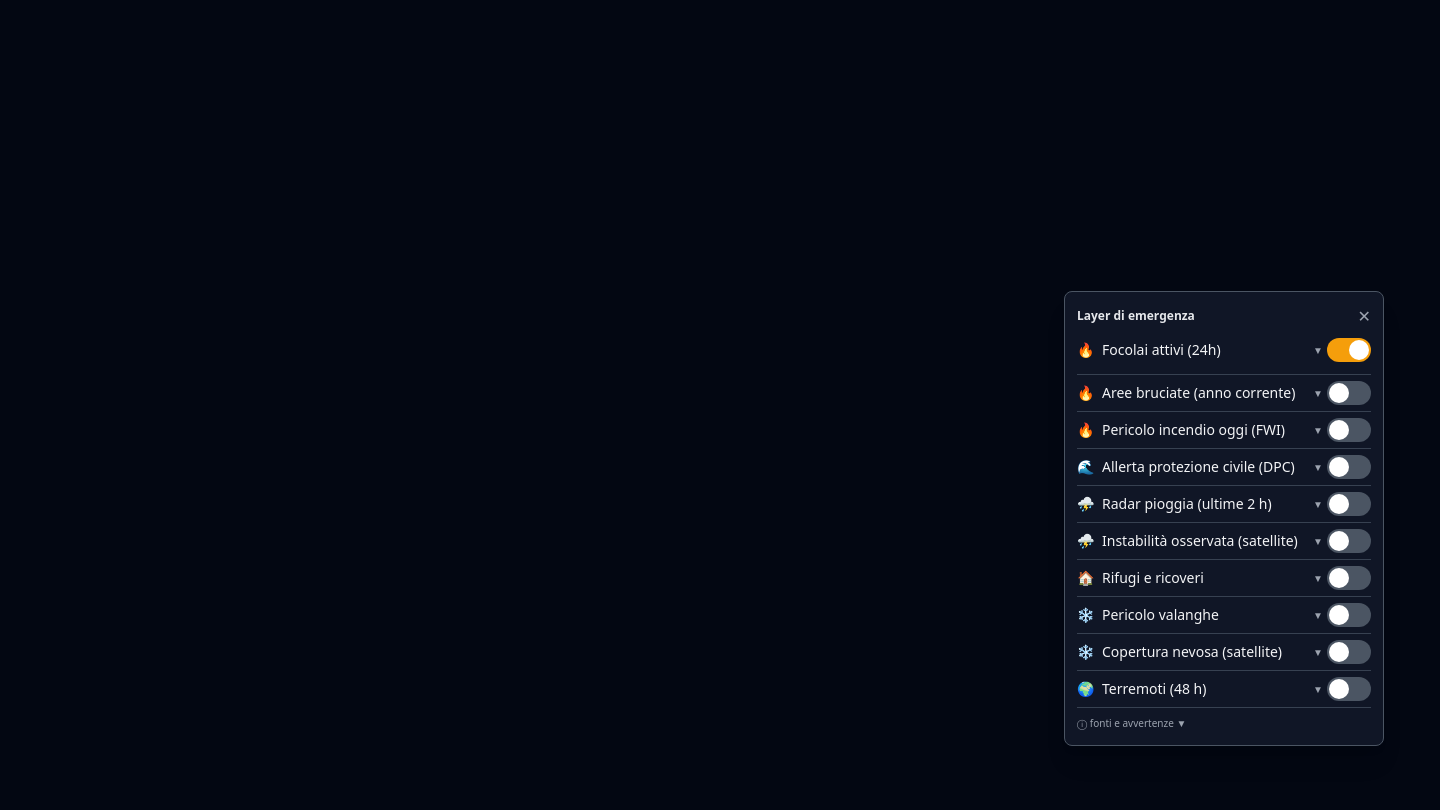
Test: pannello layer compatto › un secondo tocco richiude la riga
Click the button "🔥 Focolai attivi (24h) ▼".
click(1200, 350)  # box [1077, 332, 1323, 368]
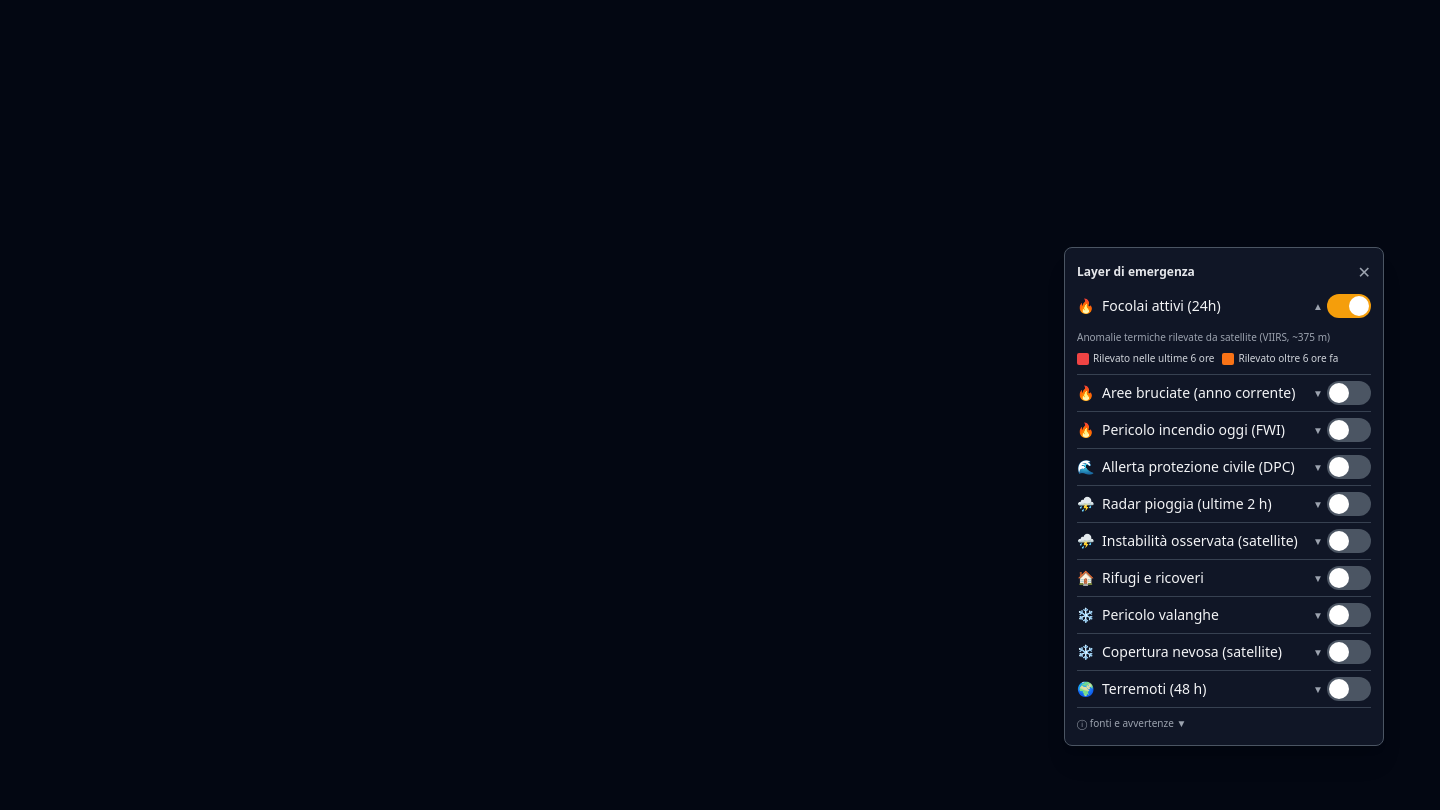
Result: the text "Rilevato nelle ultime 6 ore" is shown at [1077, 351, 1214, 366]
Click the button "🔥 Focolai attivi (24h) ▲".
click(1200, 306)  # box [1077, 288, 1323, 324]
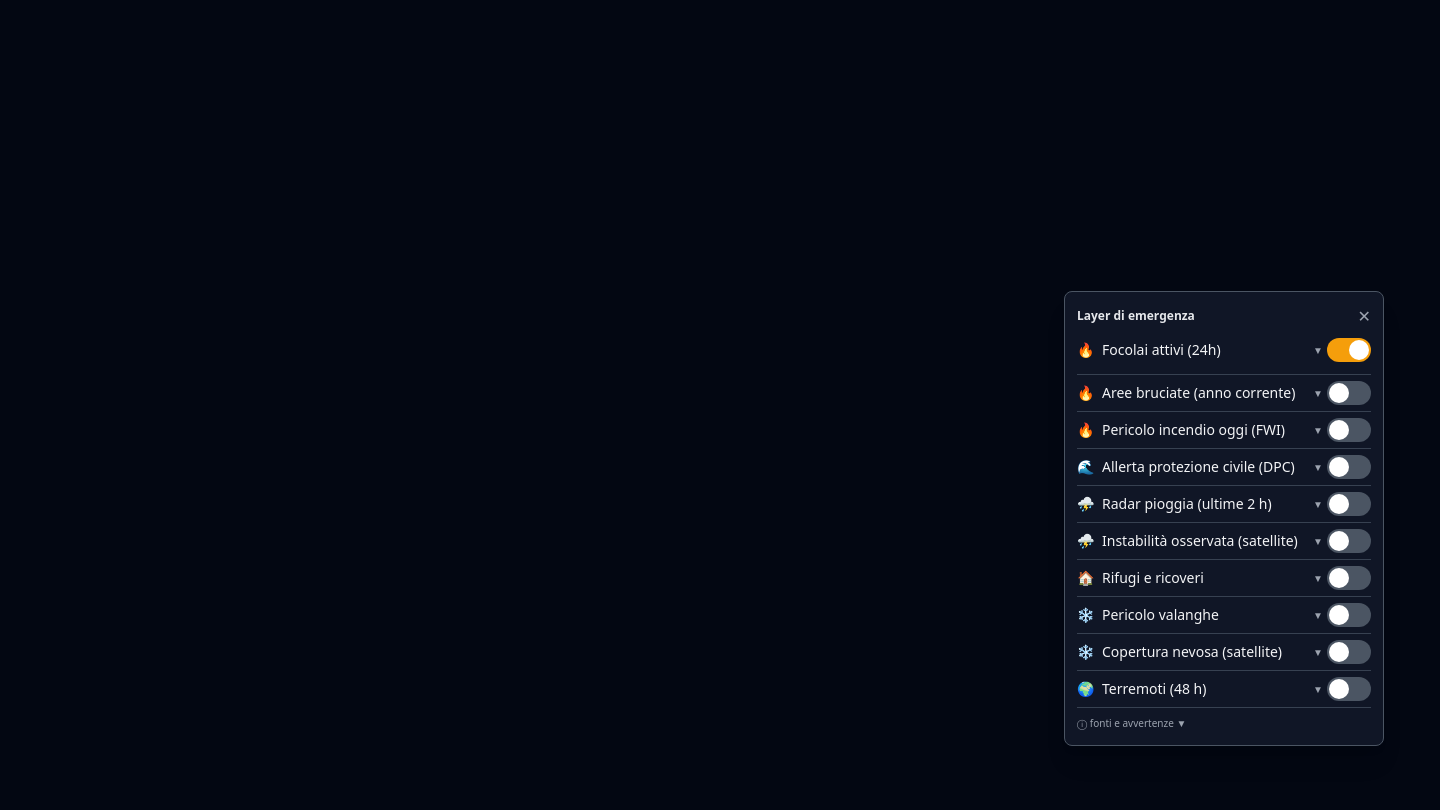
Result: the text "Rilevato nelle ultime 6 ore" is gone
